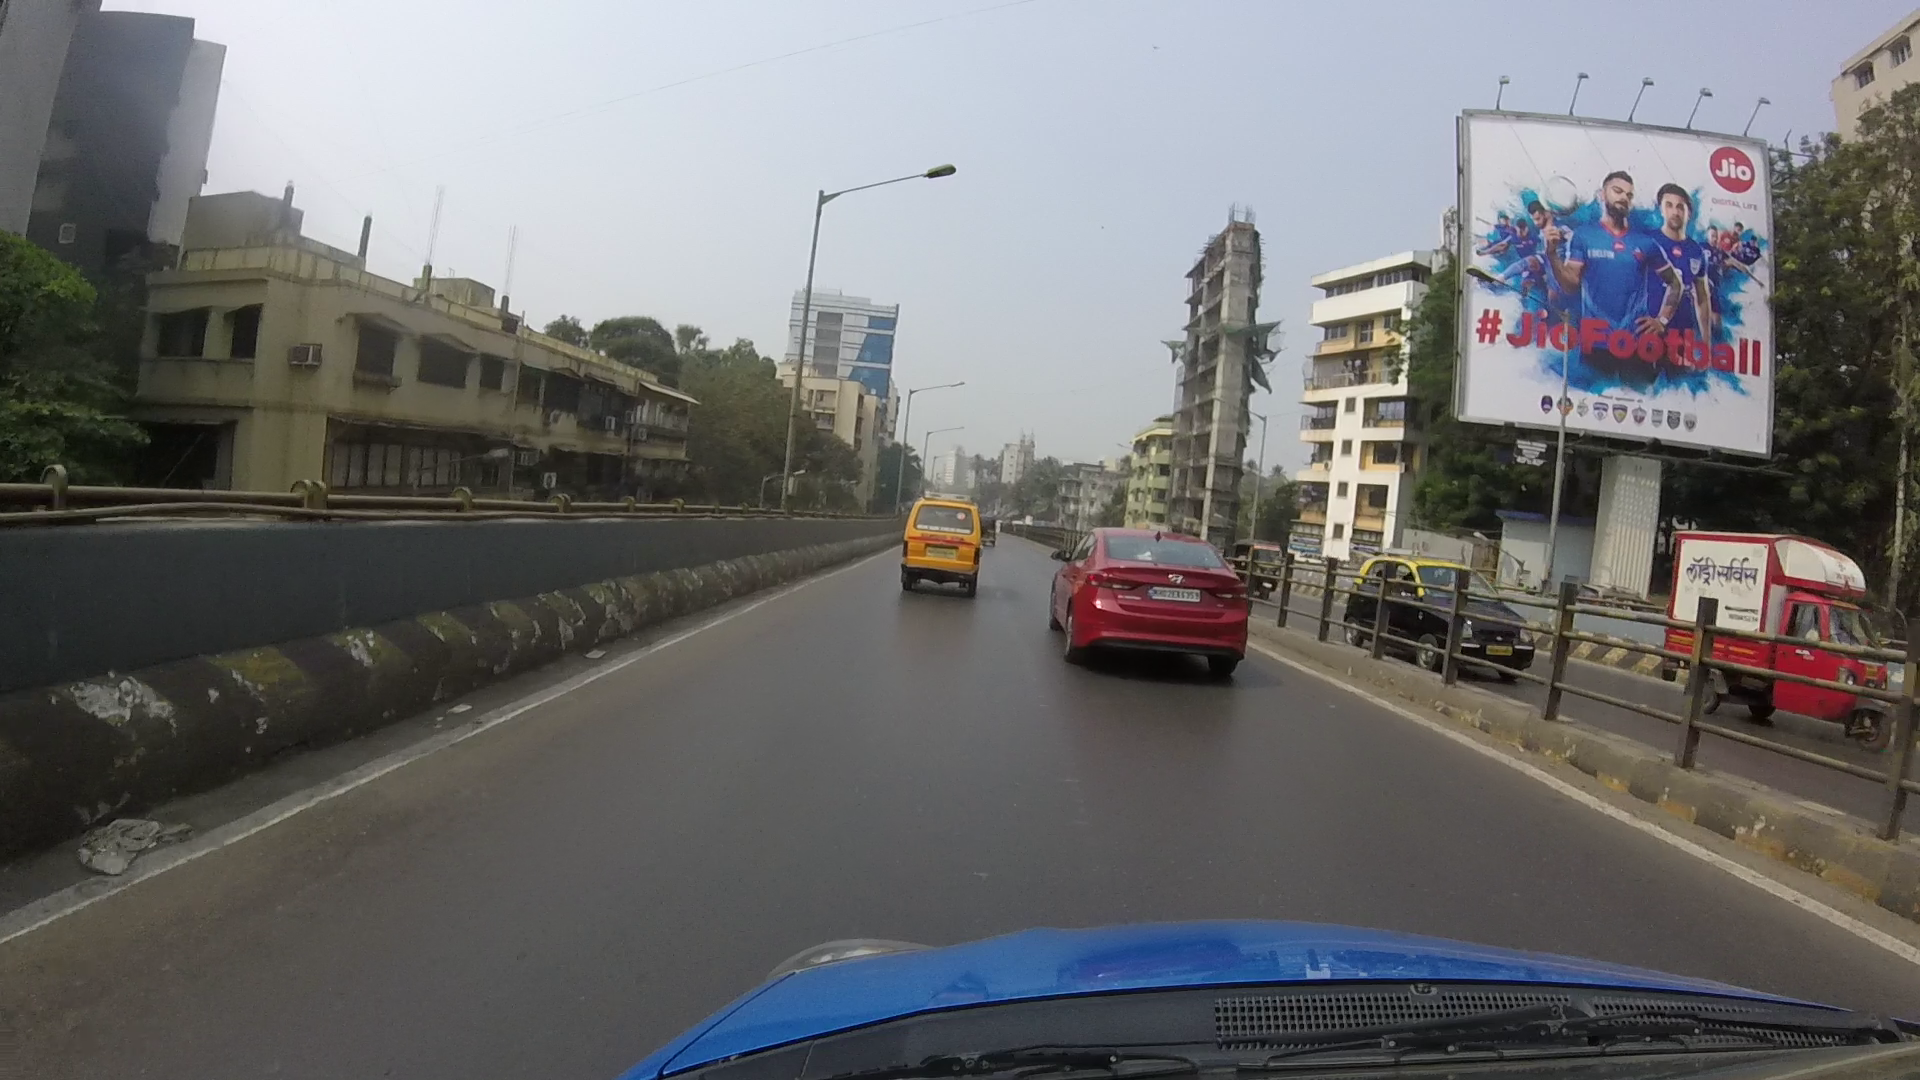car: (1058, 527, 1246, 669), (893, 489, 996, 595)
truck: (1658, 522, 1884, 742)
